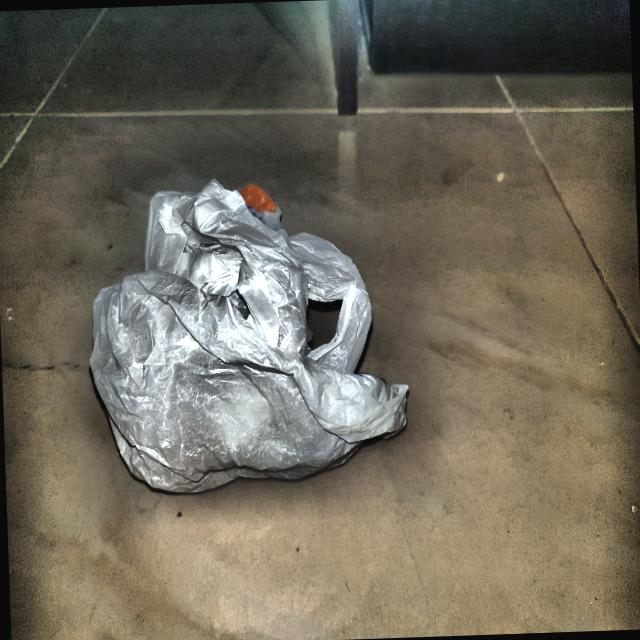plastic bag: (82, 155, 411, 506)
